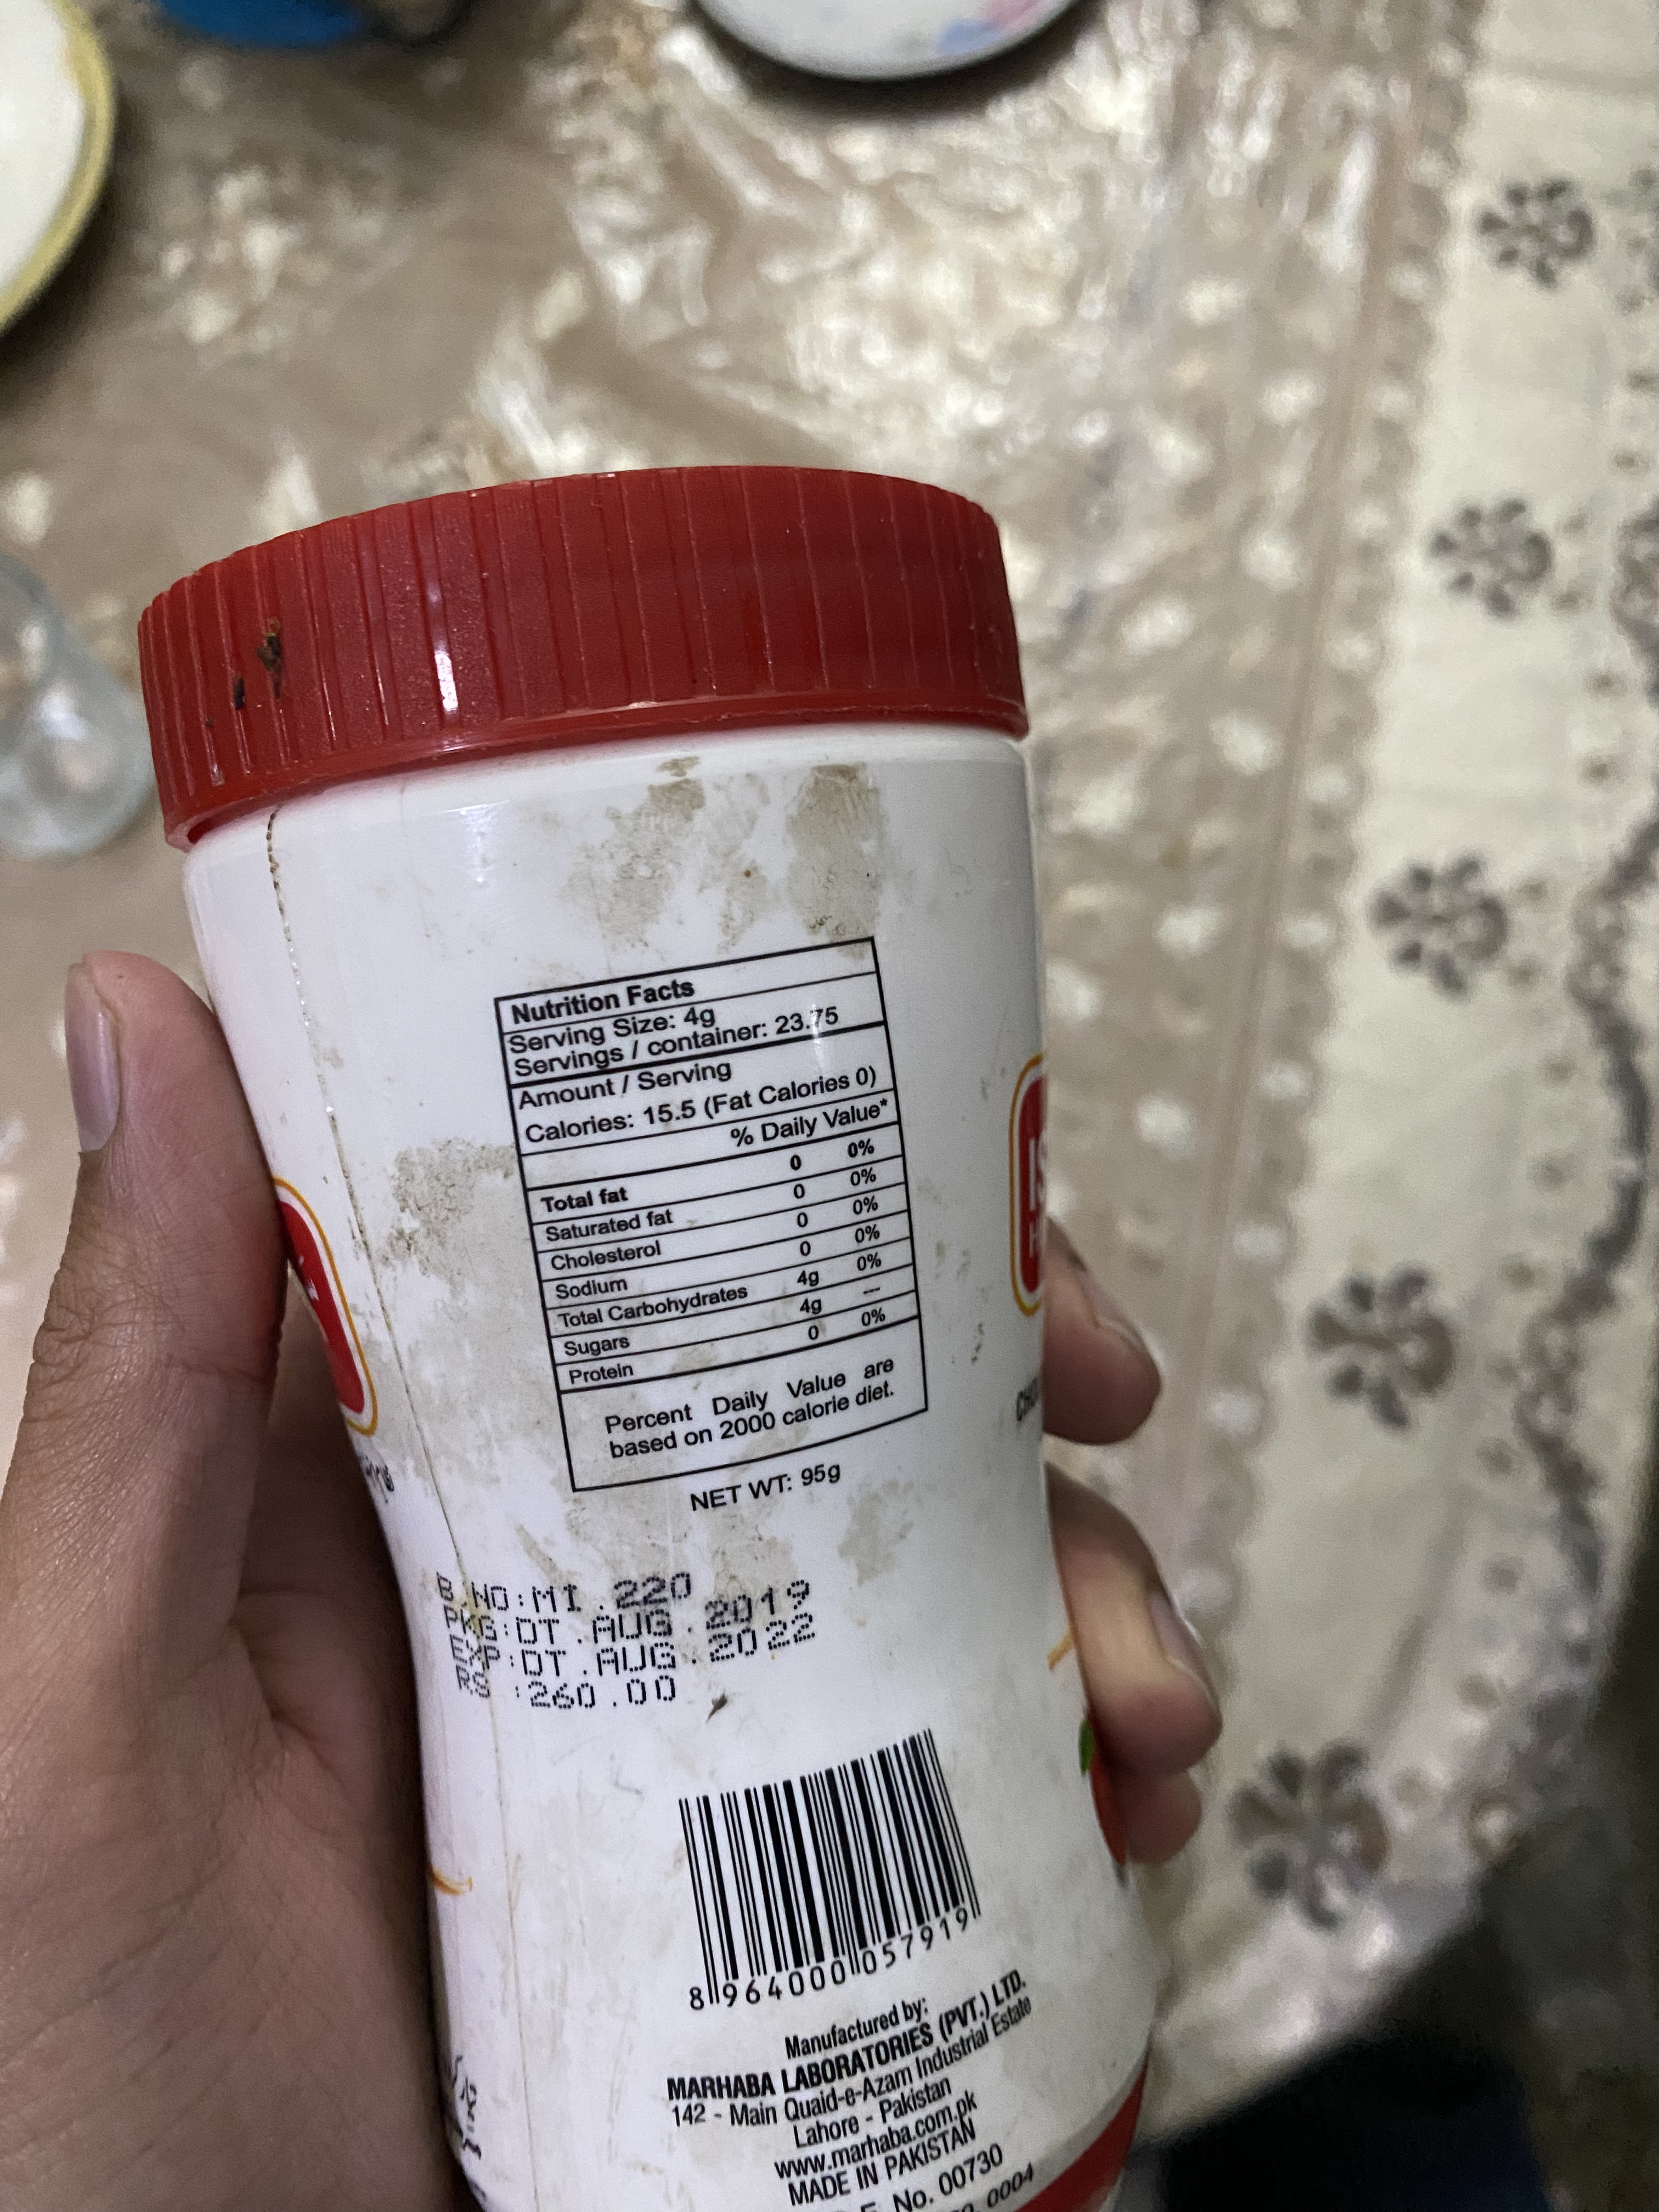table: (490, 934, 934, 1496)
